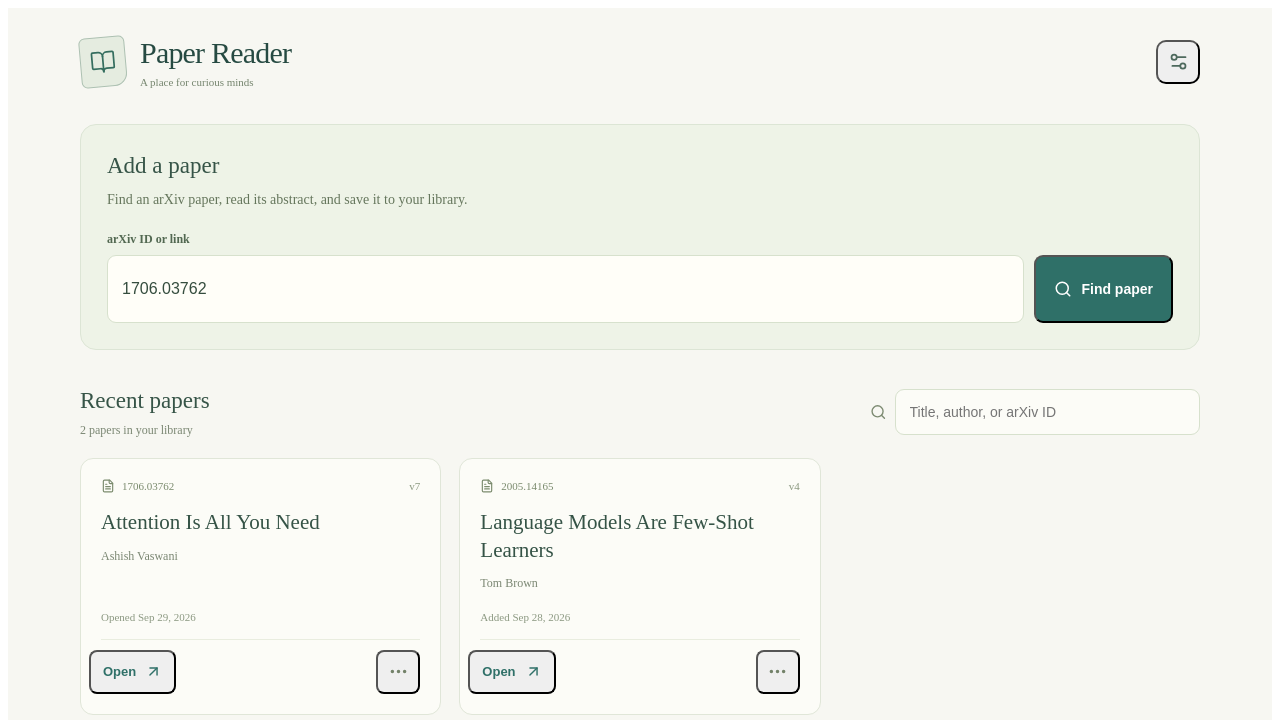
it: library home › reveals Remove only through the paper menu and restores focus when dismissed
Later steps or results of the test are not shown.
Expected: the menu item "Remove" is not shown
Click the button named "More actions for Attention Is All You Need" at (398, 672), box [376,650,420,694]
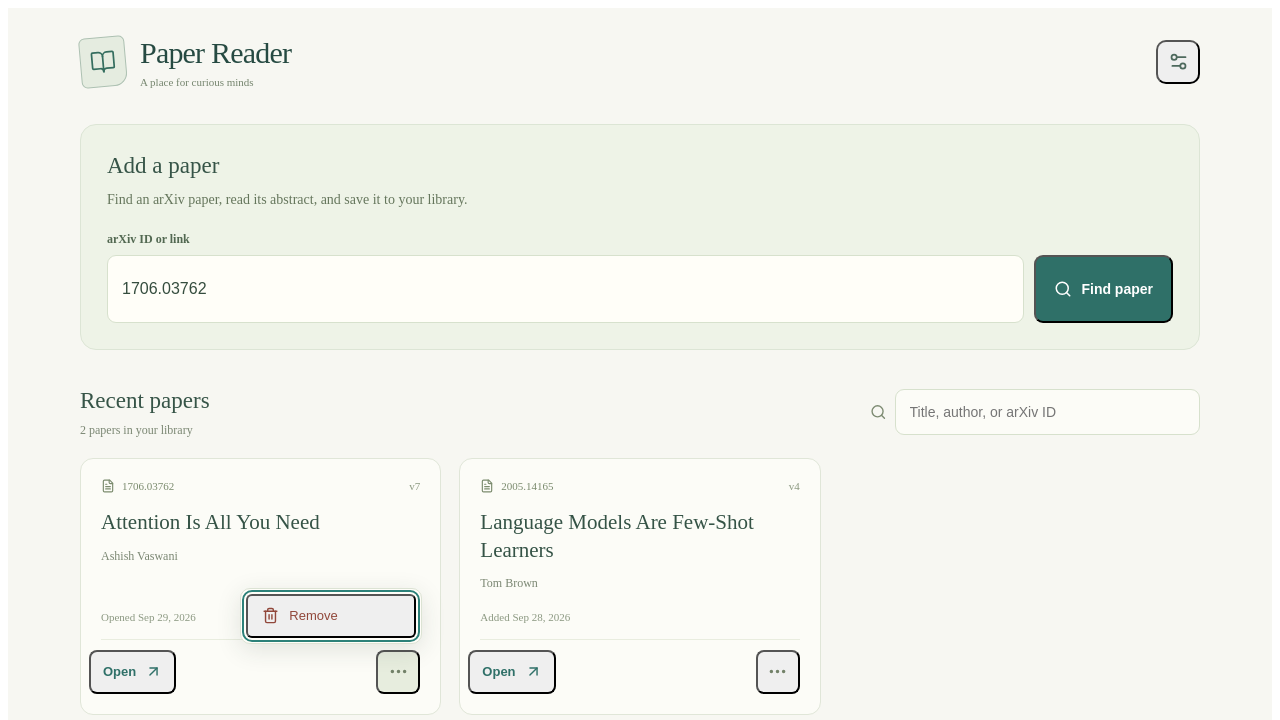
Press Escape
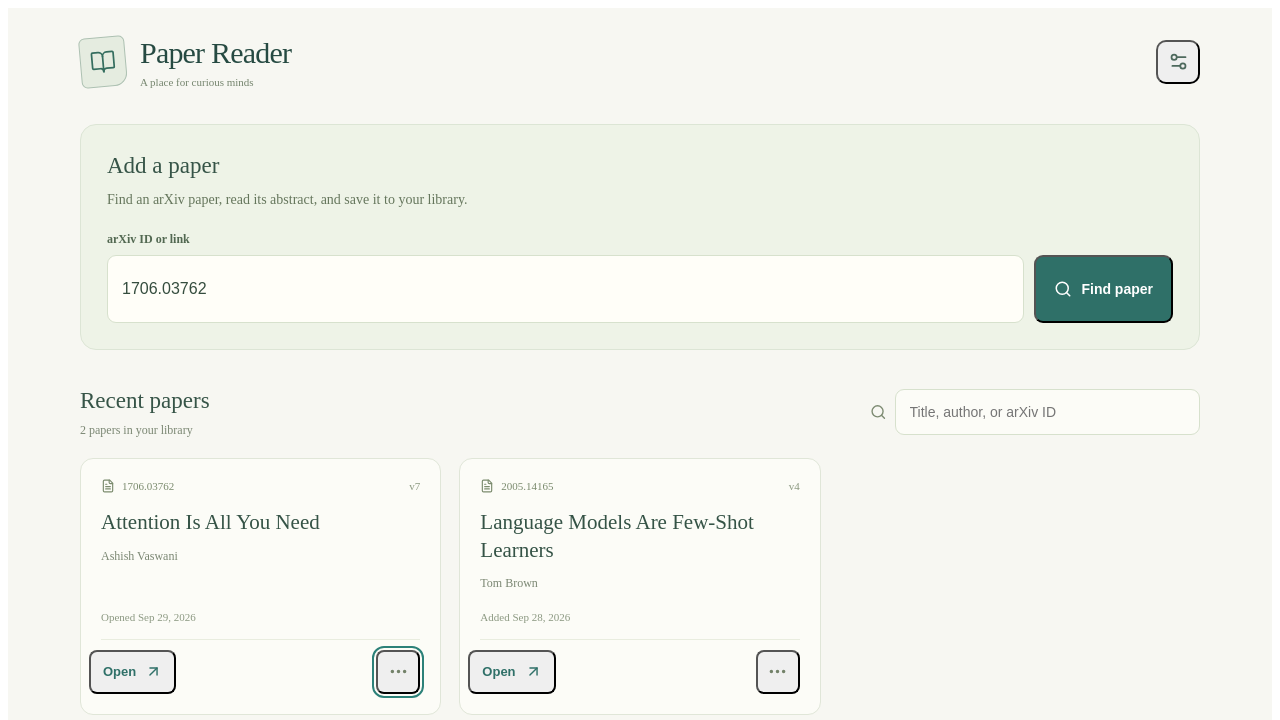
Expected: the menu is gone
Click the button named "More actions for Attention Is All You Need" at (398, 672), box [376,650,420,694]
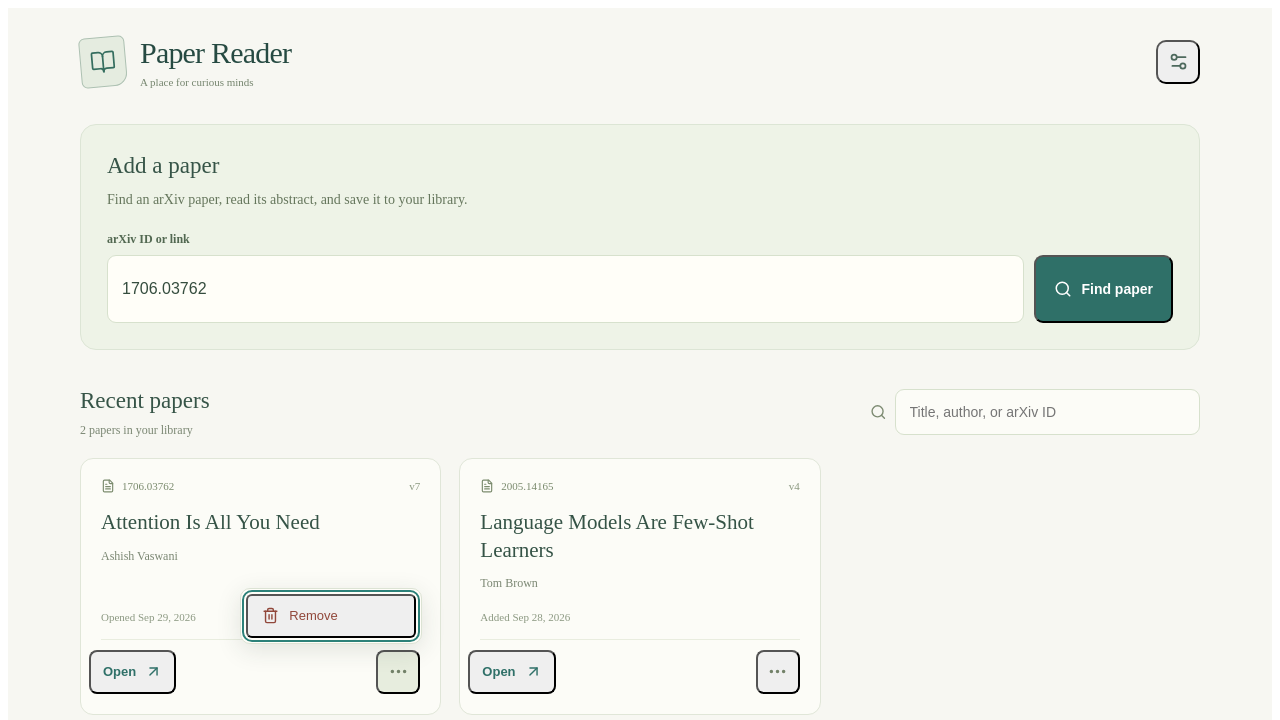
Press the mouse on the heading "Paper Reader" at (216, 53), box [140,36,291,70]
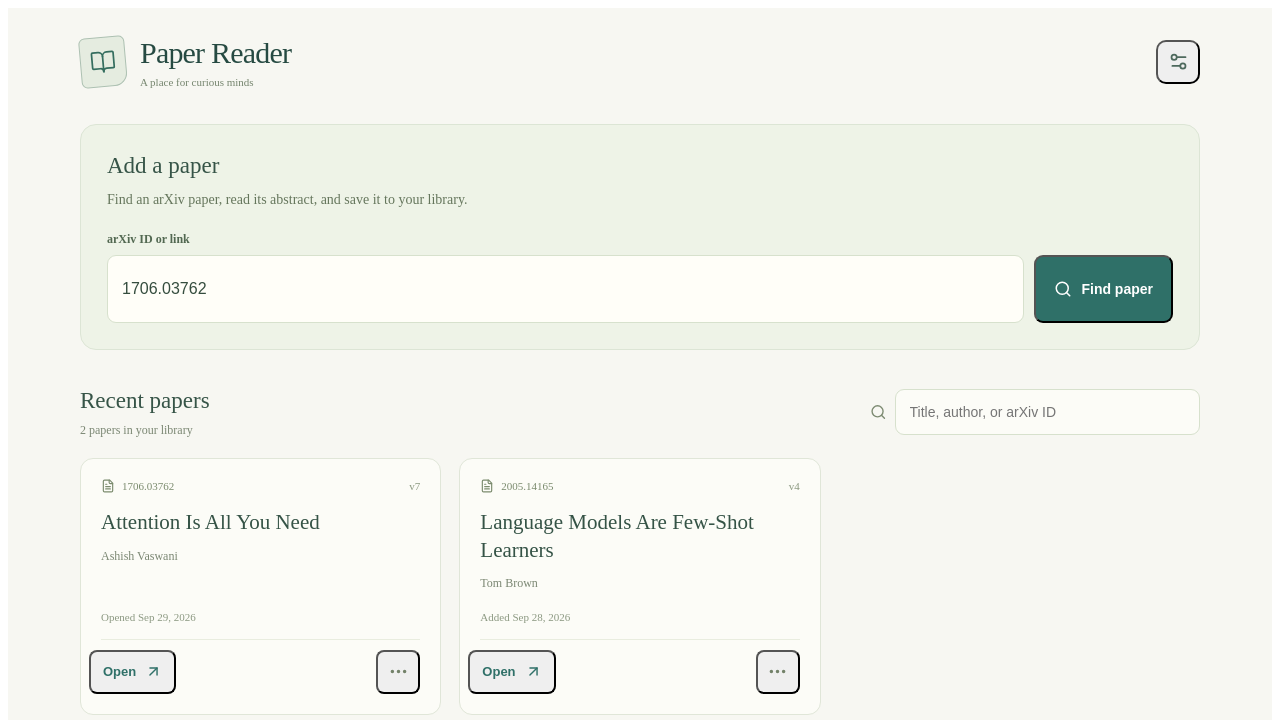
Expected: the menu is gone
